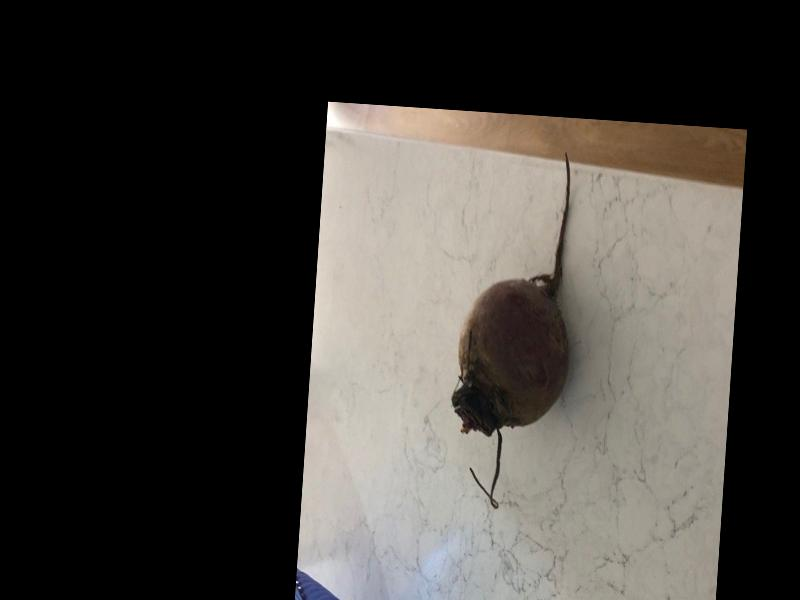Beet: (446, 142, 581, 512)
